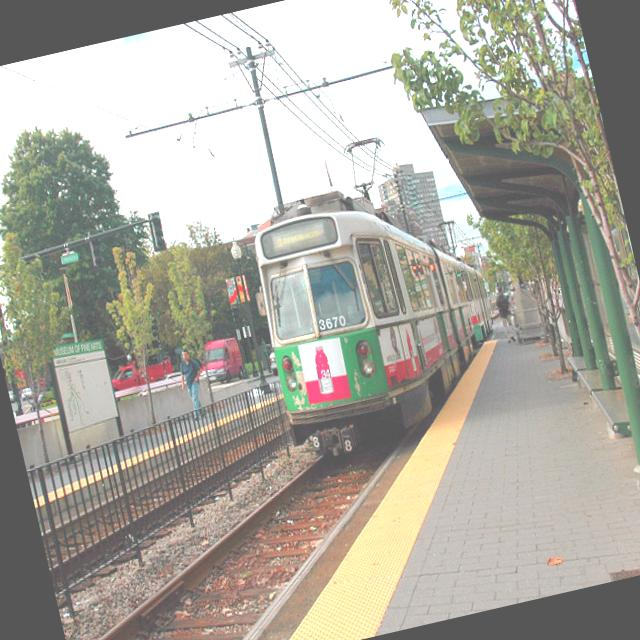Vehicle: (195, 335, 248, 389), (109, 353, 175, 392), (109, 356, 174, 392), (202, 336, 248, 386), (36, 391, 56, 408), (21, 386, 35, 404), (164, 371, 184, 382), (8, 388, 15, 402)
